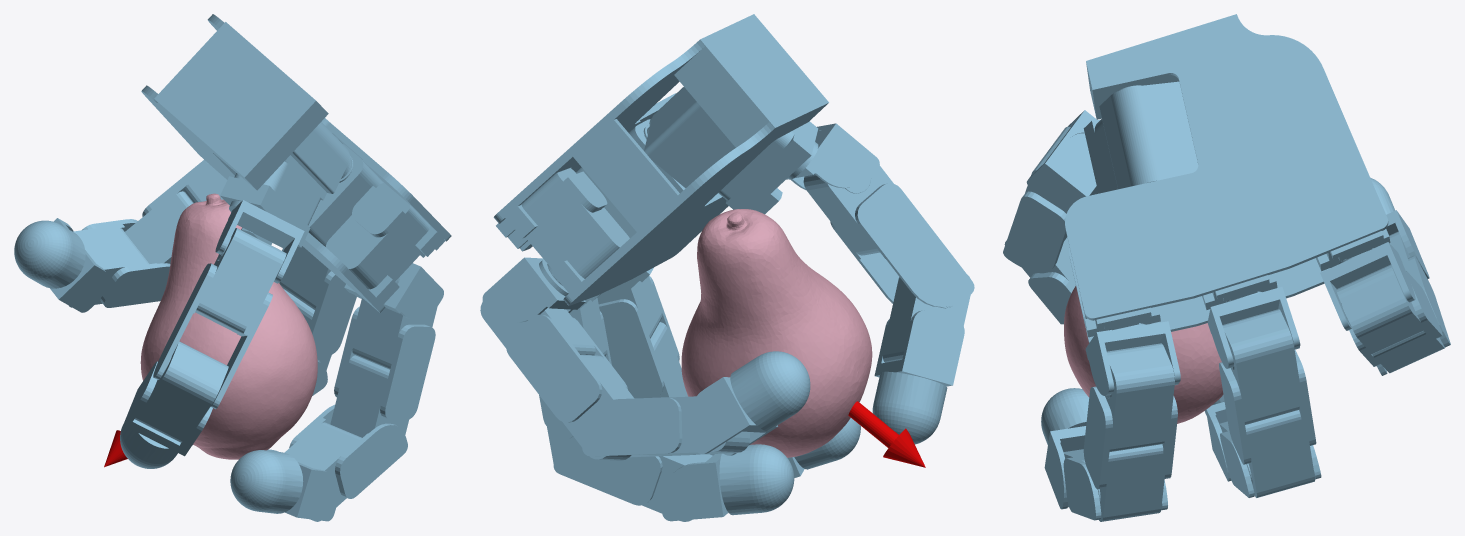
3 views of the same model, side by side, from view 1: azimuth 30°, elevation 25°; view 2: azimuth 150°, elevation 25°; view 3: azimuth 270°, elevation 25° (orthographic). The views are drawn at different scales.
Parts seen in each view (by area): view 1: world, pear.stl; view 2: world, pear.stl; view 3: world, pear.stl.
Boxes of the visible parts, left/top/right/bottom form: world: left=14, top=14, right=451, bottom=521; pear.stl: left=140, top=193, right=317, bottom=459; world: left=480, top=14, right=974, bottom=521; pear.stl: left=681, top=209, right=872, bottom=457; world: left=1003, top=14, right=1450, bottom=521; pear.stl: left=1064, top=286, right=1223, bottom=423.
Size of the model in its own units: 0.1455 by 0.1906 by 0.1601.
